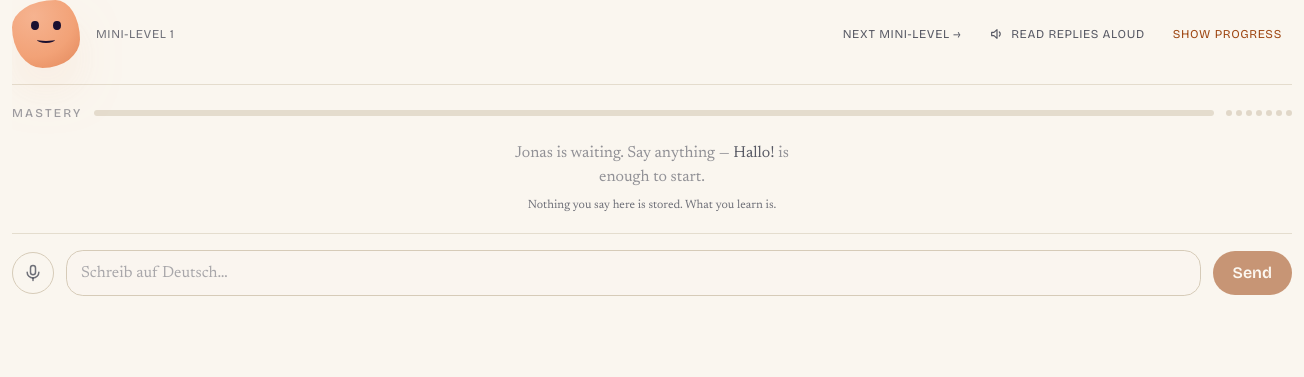
a turn the server refused › does not send the same sentence twice when the learner tries again
Type "Ich möchte einen Kaffee." into the field named "your message in german" at (633, 273), box [66,250,1201,296]
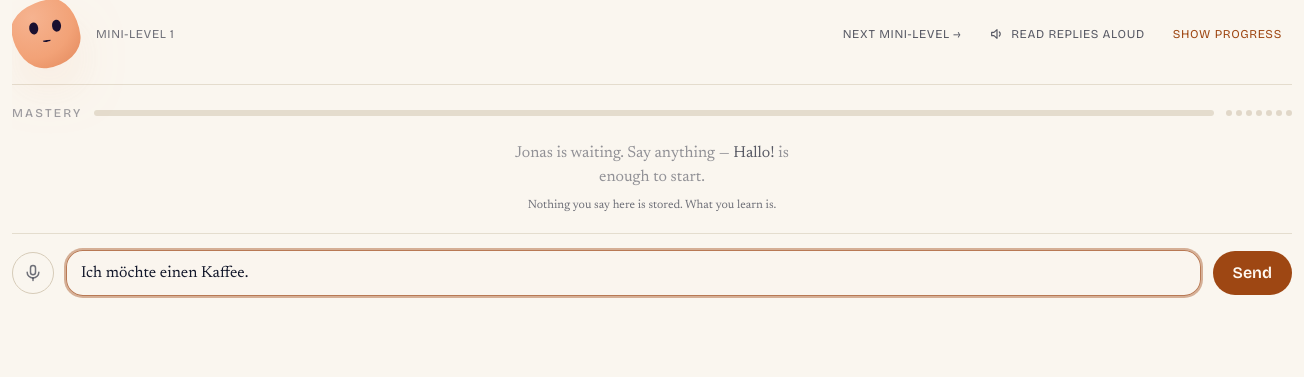
Click the button "Send" at (1252, 273), box [1213,251,1292,295]
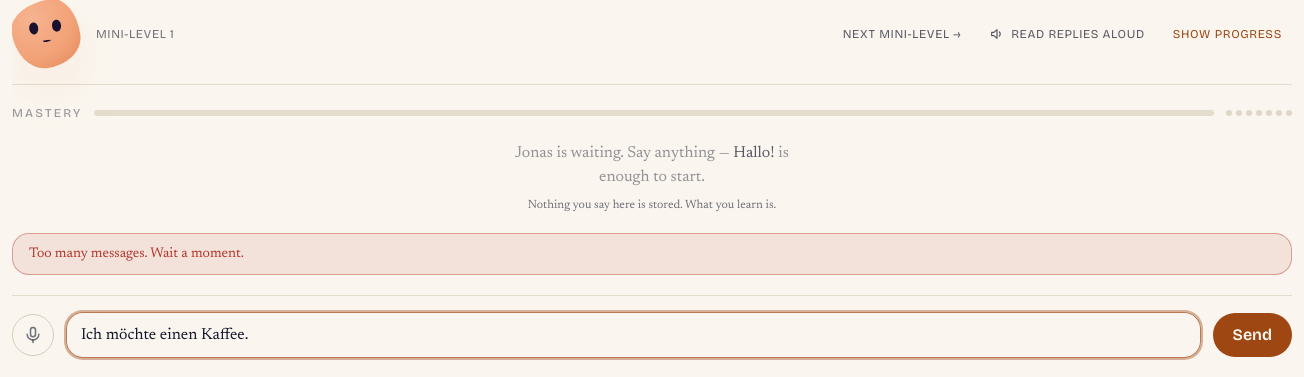
Now the message "Too many messages. Wait a moment." is shown, box [12,233,1292,275]
Click the button "Send" at (1252, 335), box [1213,313,1292,357]
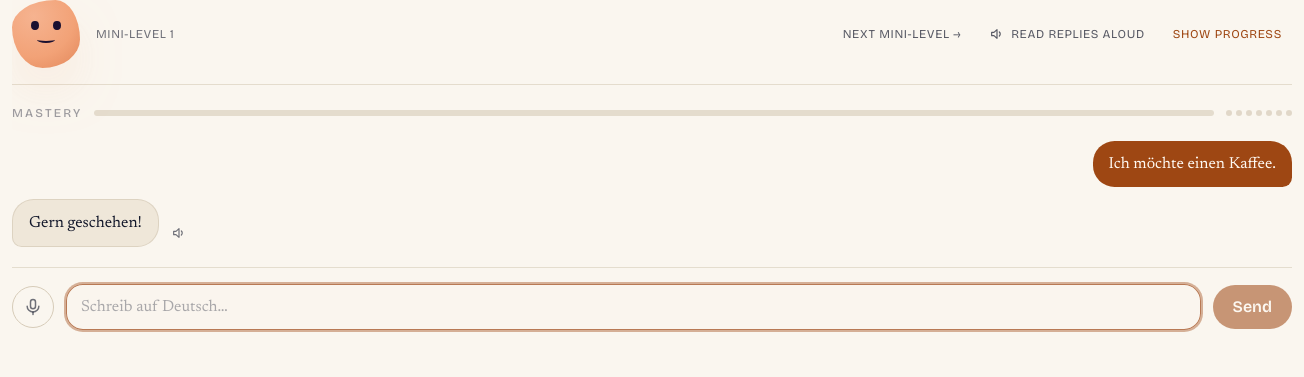
Now the text "Gern geschehen!" is shown, box [12,199,159,247]
